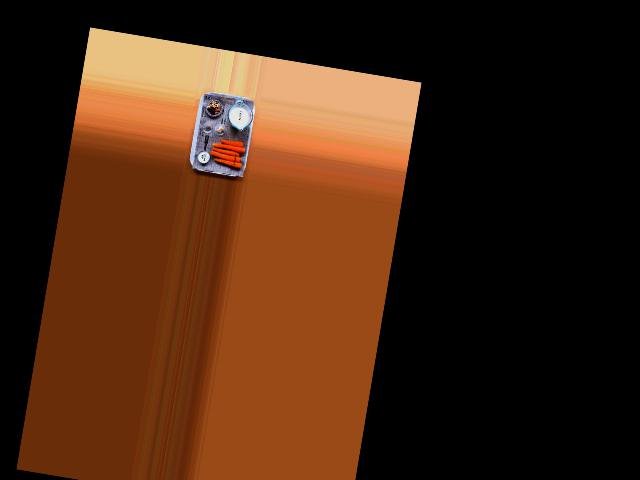carrot: (212, 155, 242, 168)
